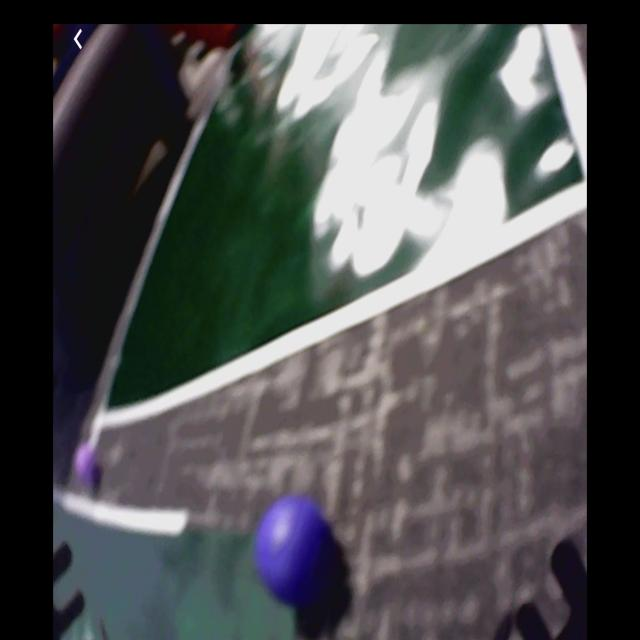ball: (257, 495, 329, 605), (75, 444, 99, 486)
